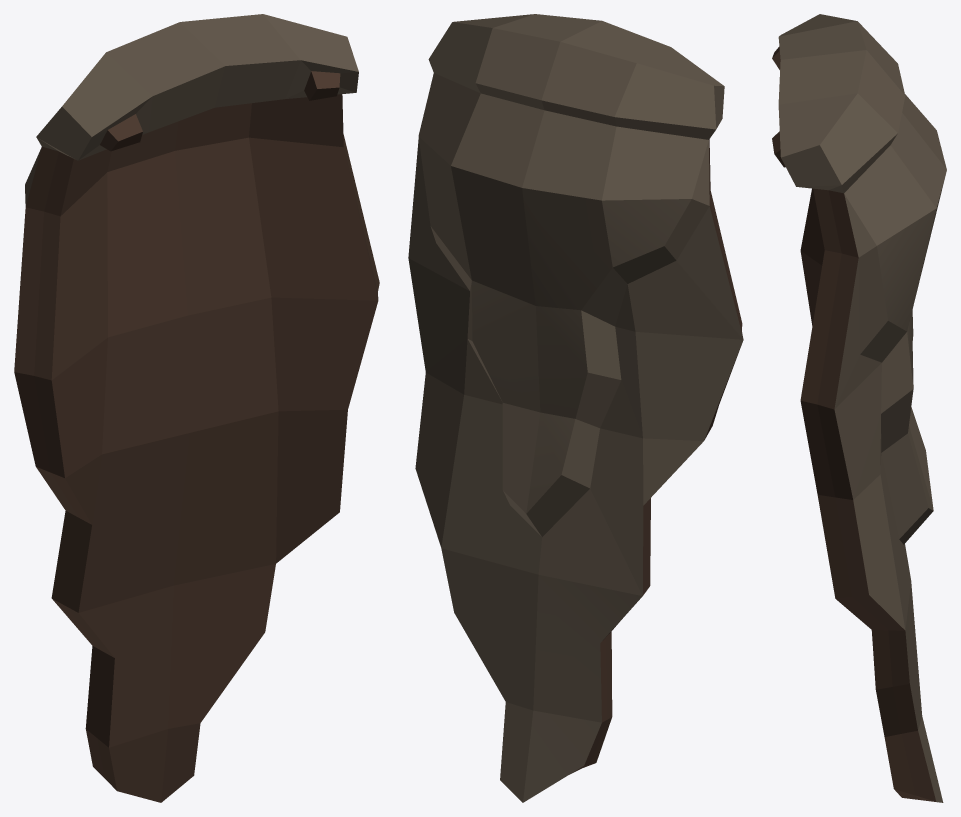
The model's file is Chr_BackAttachment_04_Static.fbx.
The picture shows the model from 3 angles, left to right: view 1: azimuth 30°, elevation 25°; view 2: azimuth 150°, elevation 25°; view 3: azimuth 270°, elevation 25°; orthographic projection. The views are drawn at different scales.
Visible parts, largest first — view 1: Chr_BackAttachment_04_Static; view 2: Chr_BackAttachment_04_Static; view 3: Chr_BackAttachment_04_Static.
Boxes of the visible parts, box(x1,y1,x2,y2) form: Chr_BackAttachment_04_Static: box(14, 14, 379, 802); Chr_BackAttachment_04_Static: box(408, 14, 743, 802); Chr_BackAttachment_04_Static: box(772, 14, 946, 802).
Bounding box in the file's own units: 0.506 × 1.06 × 0.2229.
